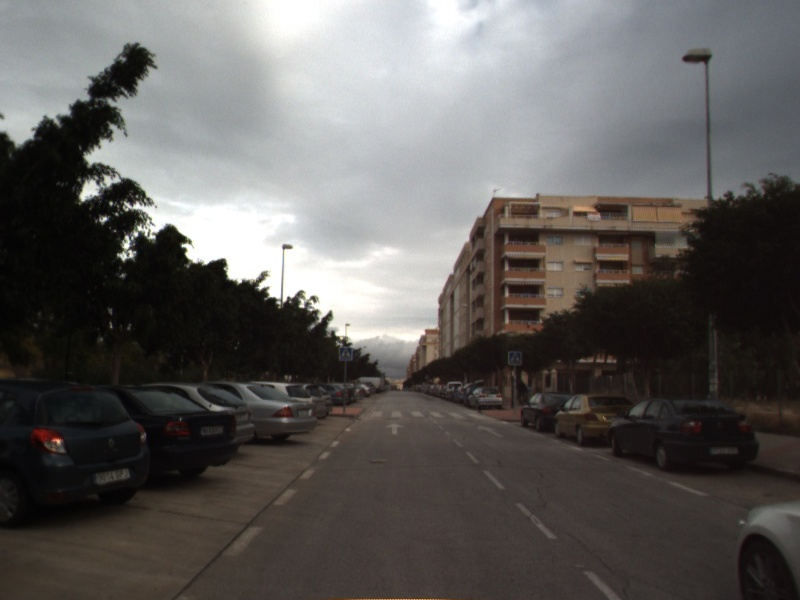STRAIGHT: (475, 424, 505, 439), (383, 421, 407, 436)
